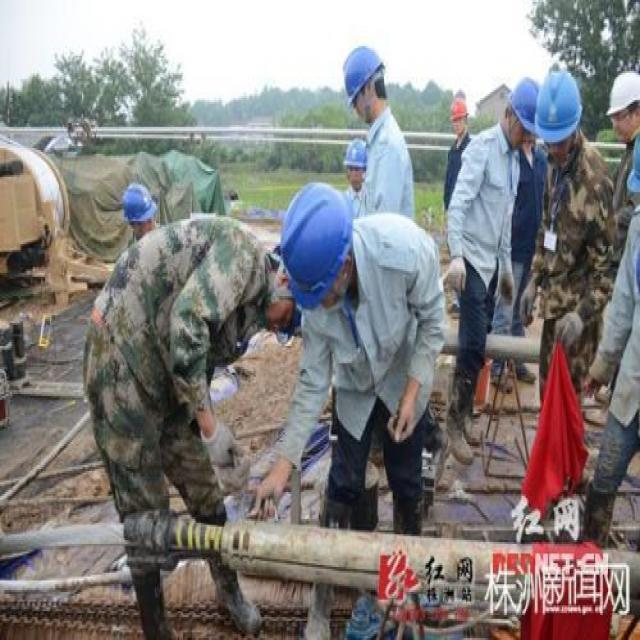hat: (274, 178, 357, 316), (528, 61, 582, 158), (338, 38, 390, 127), (507, 75, 545, 152), (605, 64, 640, 140), (119, 182, 158, 240), (343, 137, 373, 190), (450, 92, 472, 138)
